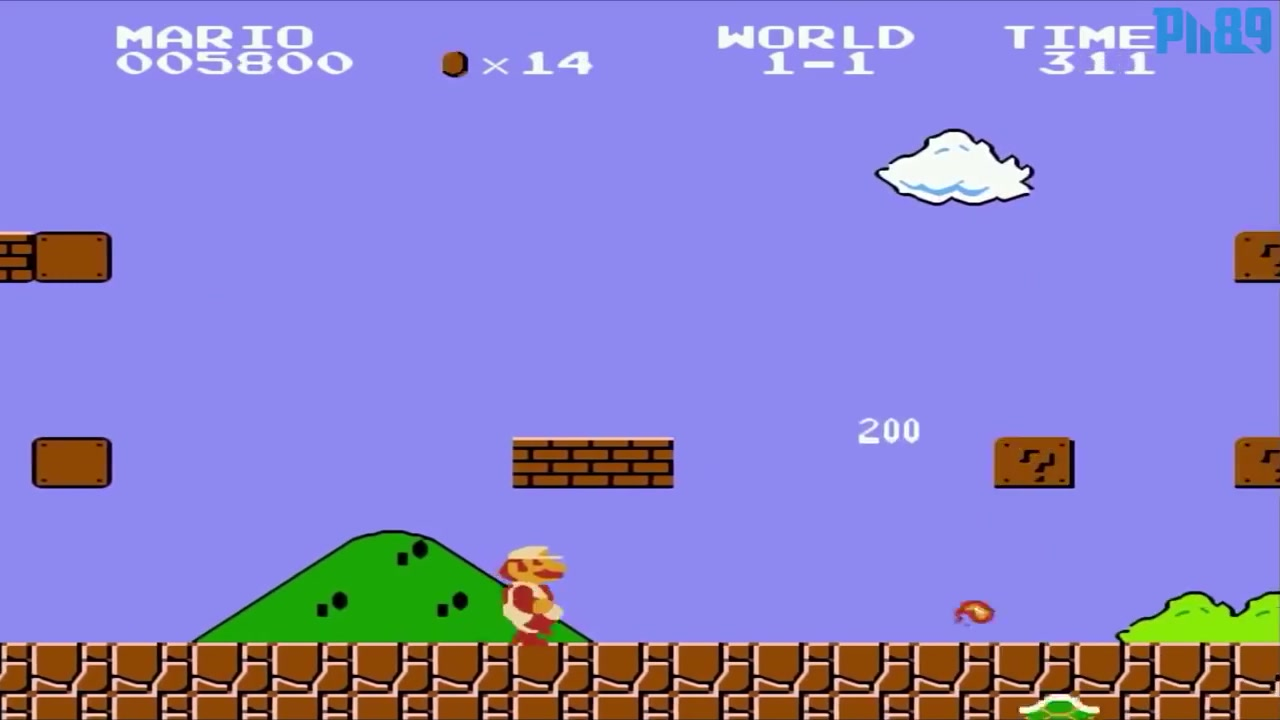mario: (491, 540, 573, 642)
